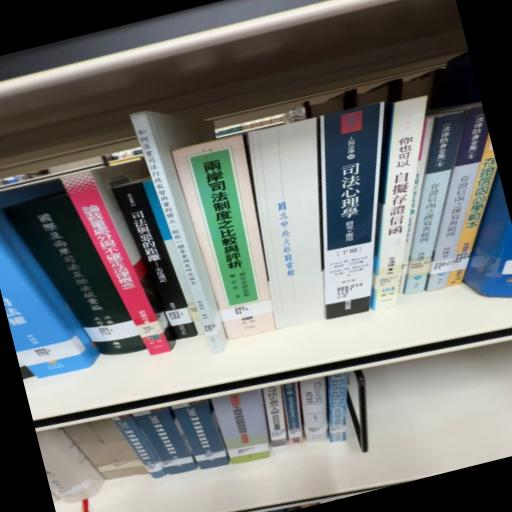backward: (236, 116, 371, 333)
book: (174, 136, 289, 319)
